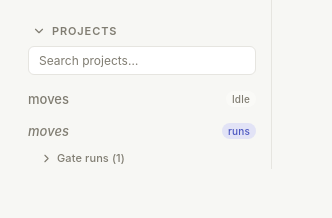
Test: ProjectSidebar — Worktree Run tag (Slice A) › tags a gate run "no-mistakes" and never shows the Source-Missing alarm
Click the button "Gate runs (1)" at (91, 158), box [12,147,272,169]
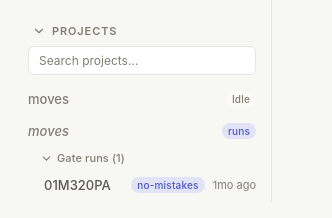
expect the text "no-mistakes" is shown: met, box [131,177,205,193]
